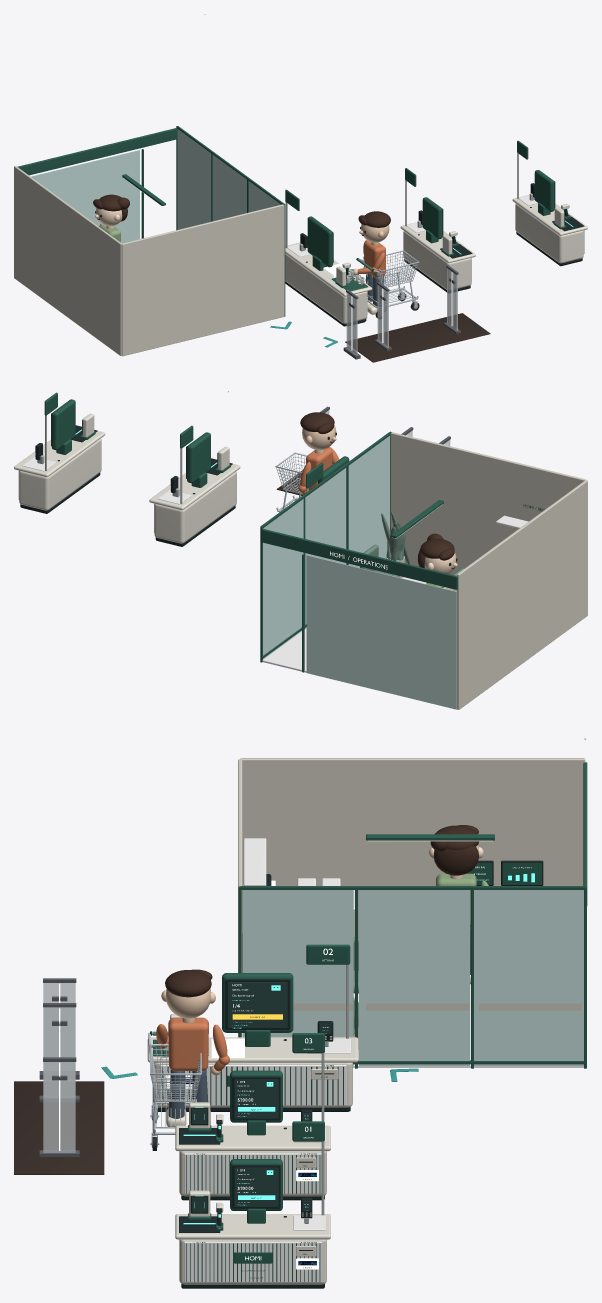
File: homi-return-station.glb
The picture shows the model from 3 angles, top to bottom: view 1: azimuth 30°, elevation 25°; view 2: azimuth 150°, elevation 25°; view 3: azimuth 270°, elevation 25°; orthographic projection. The views are drawn at different scales.
Parts seen in each view (by area): view 1: HO_SouthWall.001, HO_WestWall.001, HO_NorthGlass.001, SE_ExitMat.001, HO_Glass.005, HR_Cabinet.001, HP01_Cabinet.001, HO_DoorHeader.001, HP03_Cabinet.001, HO_Glass.004, HR_KioskShell.001, HR_Top.001 (+9 smaller); view 2: HO_WestWall.001, HO_NorthGlass.001, HO_SouthWall.001, HO_Glass.005, HO_Glass.003, HO_DoorHeader.001, HO_Glass.004, HP01_Cabinet.001, HP03_Cabinet.001, HP03_Top.001, HP01_Top.001, HO_Floor.001 (+7 smaller); view 3: HO_WestWall.001, HO_Glass.004, HO_Glass.005, HO_Glass.003, SE_ExitMat.001, HP01_OakFront.001, HR_OakFront.001, HP03_OakFront.001, SE_GateExit2_Panel.001, HP03_Top.001, HP01_Top.001, HR_ScreenGlass.001 (+24 smaller).
Boxes of the visible parts, x1,y1,x2,y2 form: HO_SouthWall.001: [121, 204, 284, 356]; HO_WestWall.001: [14, 166, 121, 355]; HO_NorthGlass.001: [31, 150, 139, 243]; SE_ExitMat.001: [345, 313, 490, 362]; HO_Glass.005: [177, 129, 211, 229]; HR_Cabinet.001: [285, 253, 367, 323]; HP01_Cabinet.001: [515, 204, 583, 263]; HO_DoorHeader.001: [17, 128, 177, 175]; HP03_Cabinet.001: [403, 231, 471, 290]; HO_Glass.004: [213, 155, 246, 221]; HR_KioskShell.001: [307, 216, 332, 267]; HR_Top.001: [285, 242, 372, 296]; HO_WestWall.001: [456, 480, 587, 709]; HO_NorthGlass.001: [306, 555, 456, 709]; HO_SouthWall.001: [390, 432, 586, 574]; HO_Glass.005: [263, 499, 303, 658]; HO_Glass.003: [348, 436, 389, 567]; HO_DoorHeader.001: [261, 528, 457, 589]; HO_Glass.004: [305, 468, 346, 627]; HP01_Cabinet.001: [19, 438, 101, 510]; HP03_Cabinet.001: [154, 471, 236, 543]; HP03_Top.001: [149, 464, 240, 510]; HP01_Top.001: [14, 431, 105, 477]; HO_Floor.001: [262, 577, 426, 672]; HO_WestWall.001: [240, 758, 585, 937]; HO_Glass.004: [359, 890, 469, 1065]; HO_Glass.005: [474, 890, 583, 1065]; HO_Glass.003: [243, 890, 353, 1065]; SE_ExitMat.001: [14, 1081, 104, 1174]; HP01_OakFront.001: [184, 1241, 322, 1282]; HR_OakFront.001: [159, 1065, 346, 1105]; HP03_OakFront.001: [184, 1153, 321, 1193]; SE_GateExit2_Panel.001: [43, 1062, 75, 1152]; HP03_Top.001: [175, 1125, 330, 1151]; HP01_Top.001: [175, 1214, 330, 1239]; HR_ScreenGlass.001: [228, 982, 287, 1027].
Size of the model in its own units: 12.97 by 6.01 by 8.9.
Materials: 37 (1 with a texture image).
